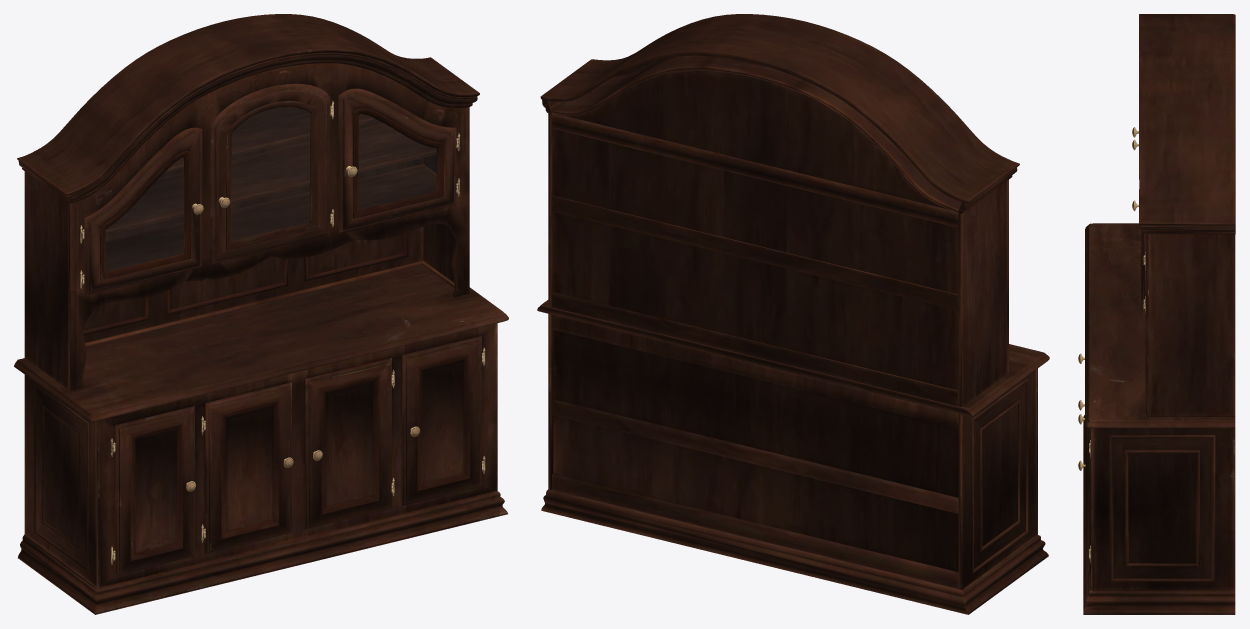
The model's file is vintage_cabinet_01.glb.
3 renders of one model, left to right at view 1: azimuth 30°, elevation 25°; view 2: azimuth 150°, elevation 25°; view 3: azimuth 270°, elevation 25°, orthographic. The views are drawn at different scales.
Parts seen in each view (by area): view 1: vintage_cabinet_01_body, vintage_cabinet_01_door_03, vintage_cabinet_01_door_01, vintage_cabinet_01_door_04, vintage_cabinet_01_door_06, vintage_cabinet_01_door_07, vintage_cabinet_01_door_05, vintage_cabinet_01_door_02; view 2: vintage_cabinet_01_body; view 3: vintage_cabinet_01_body, vintage_cabinet_01_door_02, vintage_cabinet_01_door_04.
Boxes of the visible parts, x1,y1,x2,y2 form: vintage_cabinet_01_body: (14,14,508,614); vintage_cabinet_01_door_03: (210,83,332,264); vintage_cabinet_01_door_01: (82,127,203,295); vintage_cabinet_01_door_04: (338,88,458,233); vintage_cabinet_01_door_06: (204,382,293,553); vintage_cabinet_01_door_07: (305,357,392,529); vintage_cabinet_01_door_05: (113,406,195,575); vintage_cabinet_01_door_02: (402,336,483,505); vintage_cabinet_01_body: (537,14,1049,614); vintage_cabinet_01_body: (1083,14,1235,614); vintage_cabinet_01_door_02: (1078,427,1090,572); vintage_cabinet_01_door_04: (1132,200,1145,319).
Size of the model in its own units: 2.02 by 2.24 by 0.6698.
Materials: 3 (2 with a texture image).
